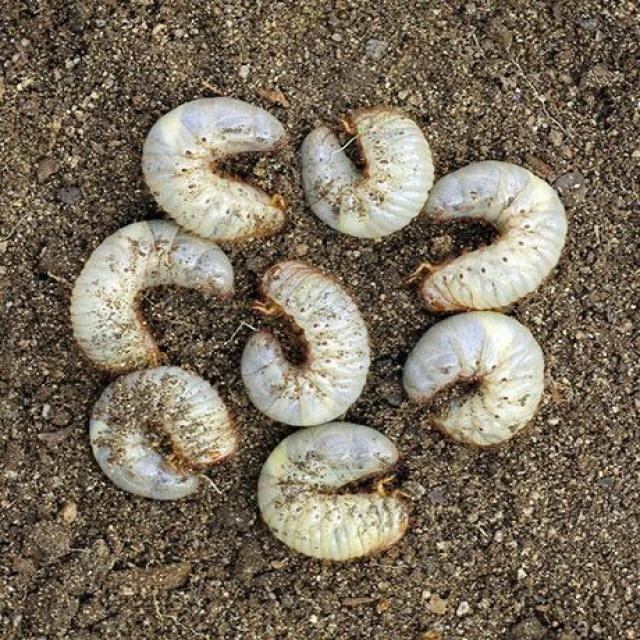grub: (136, 103, 321, 245), (261, 404, 412, 571), (77, 217, 237, 372), (422, 161, 573, 312), (84, 365, 246, 500), (254, 259, 371, 421), (298, 117, 447, 238), (414, 314, 549, 441)
